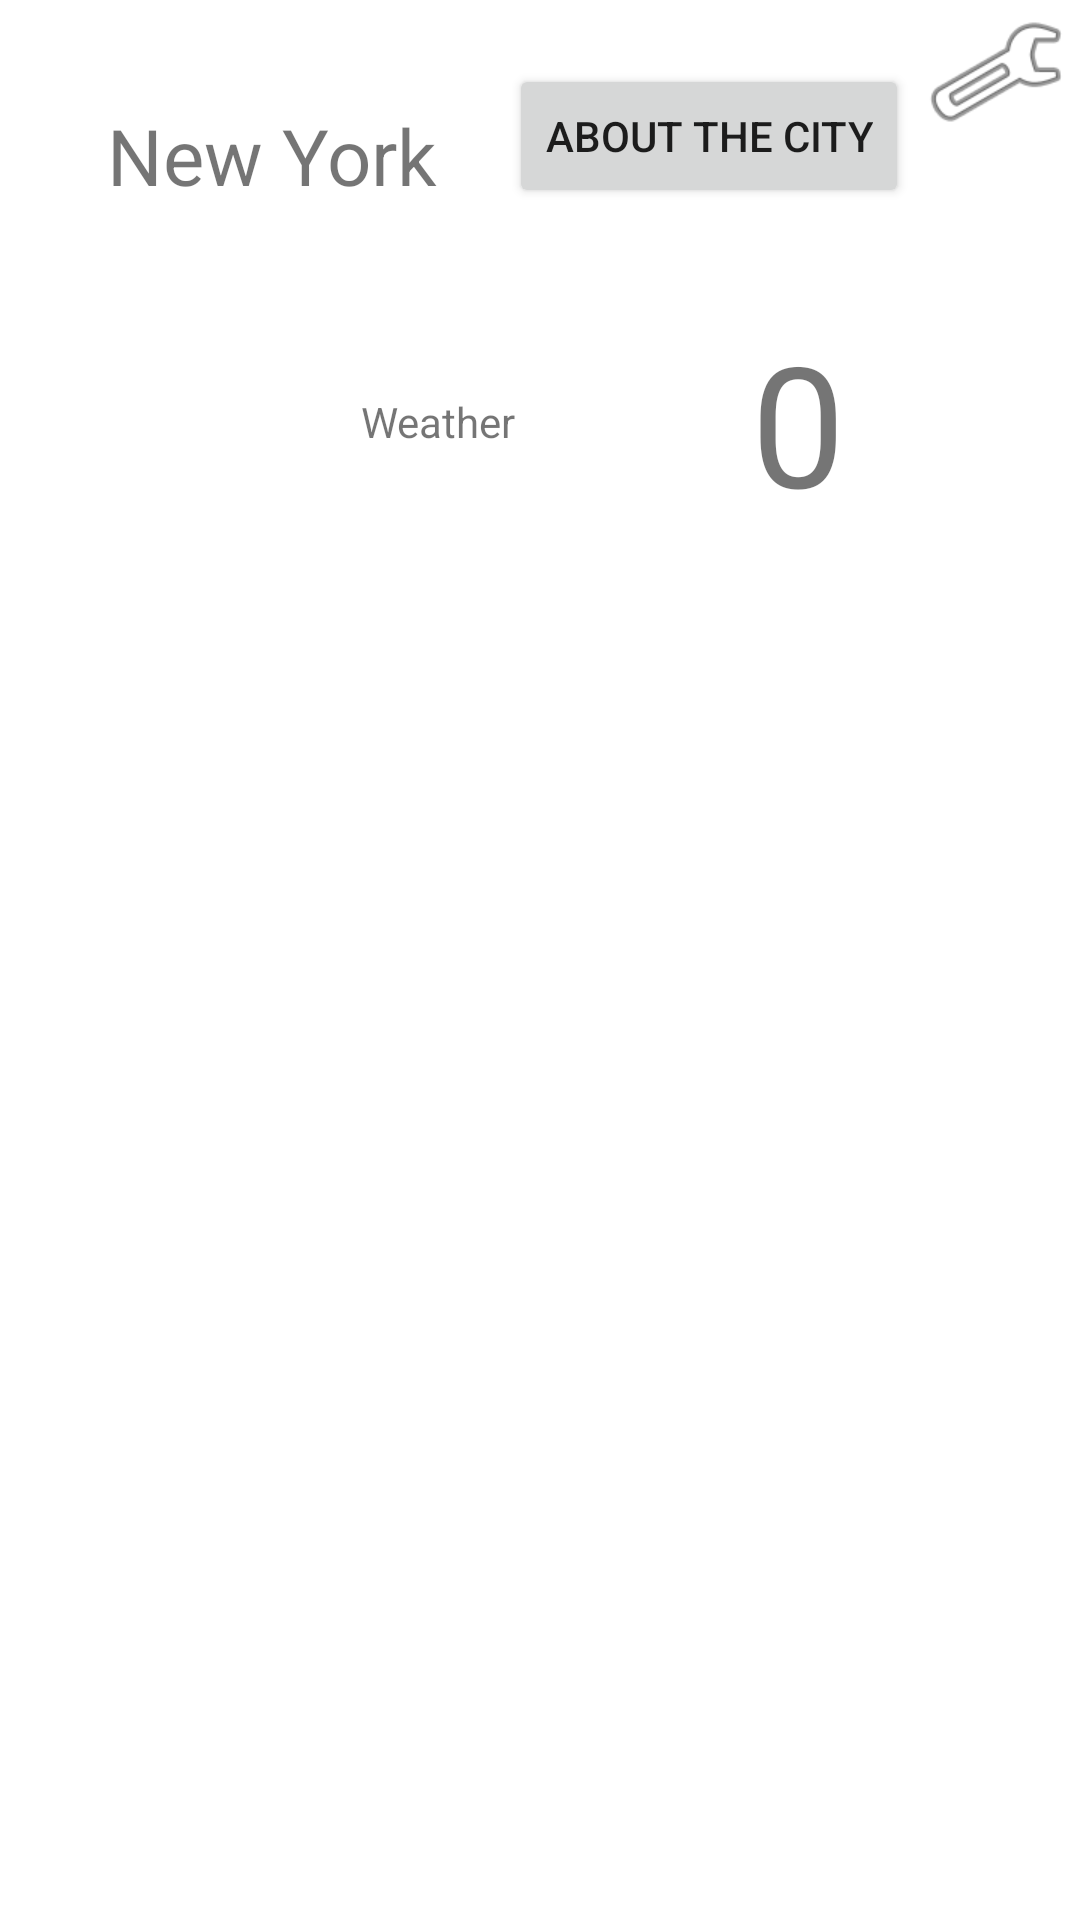

Where to tap for icons on this 1080*1920 app screen, as (x,y):
manage: (996,72)
